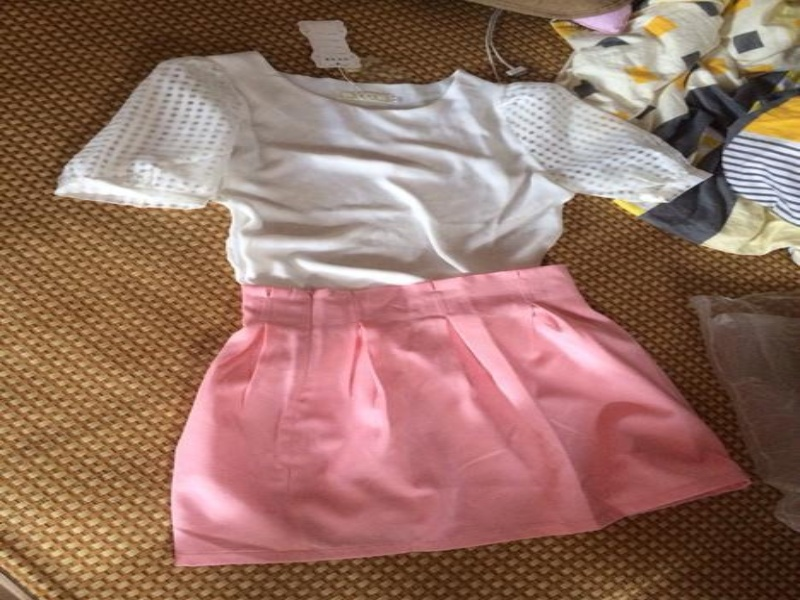short_sleeved_shirt: (55, 42, 756, 570)
skirt: (166, 262, 752, 573)
